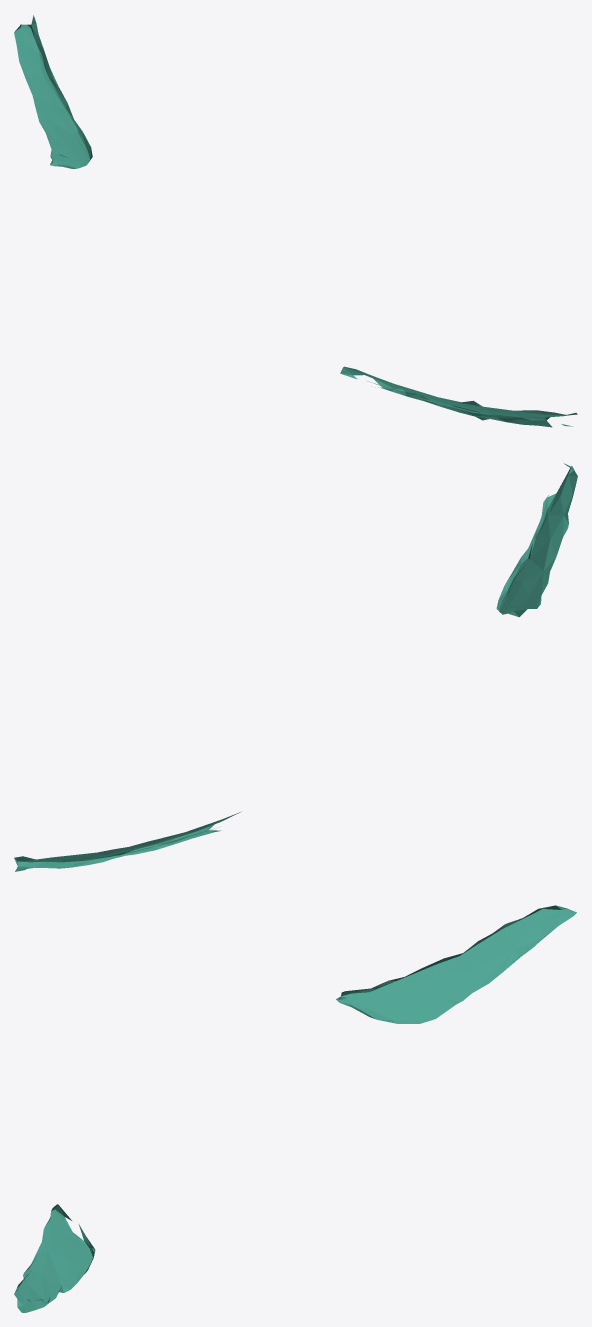
The picture shows the model from 3 angles, top to bottom: view 1: azimuth 30°, elevation 25°; view 2: azimuth 150°, elevation 25°; view 3: azimuth 330°, elevation 25°; orthographic projection.
Parts seen in each view (by area): view 1: 461.obj; view 2: 461.obj; view 3: 461.obj.
Boxes of the visible parts, x1=… form: 461.obj: x1=14, y1=15, x2=577, y2=427; 461.obj: x1=14, y1=463, x2=577, y2=871; 461.obj: x1=14, y1=905, x2=576, y2=1312.
Bounding box in the file's own units: 540 × 258 × 4558.
